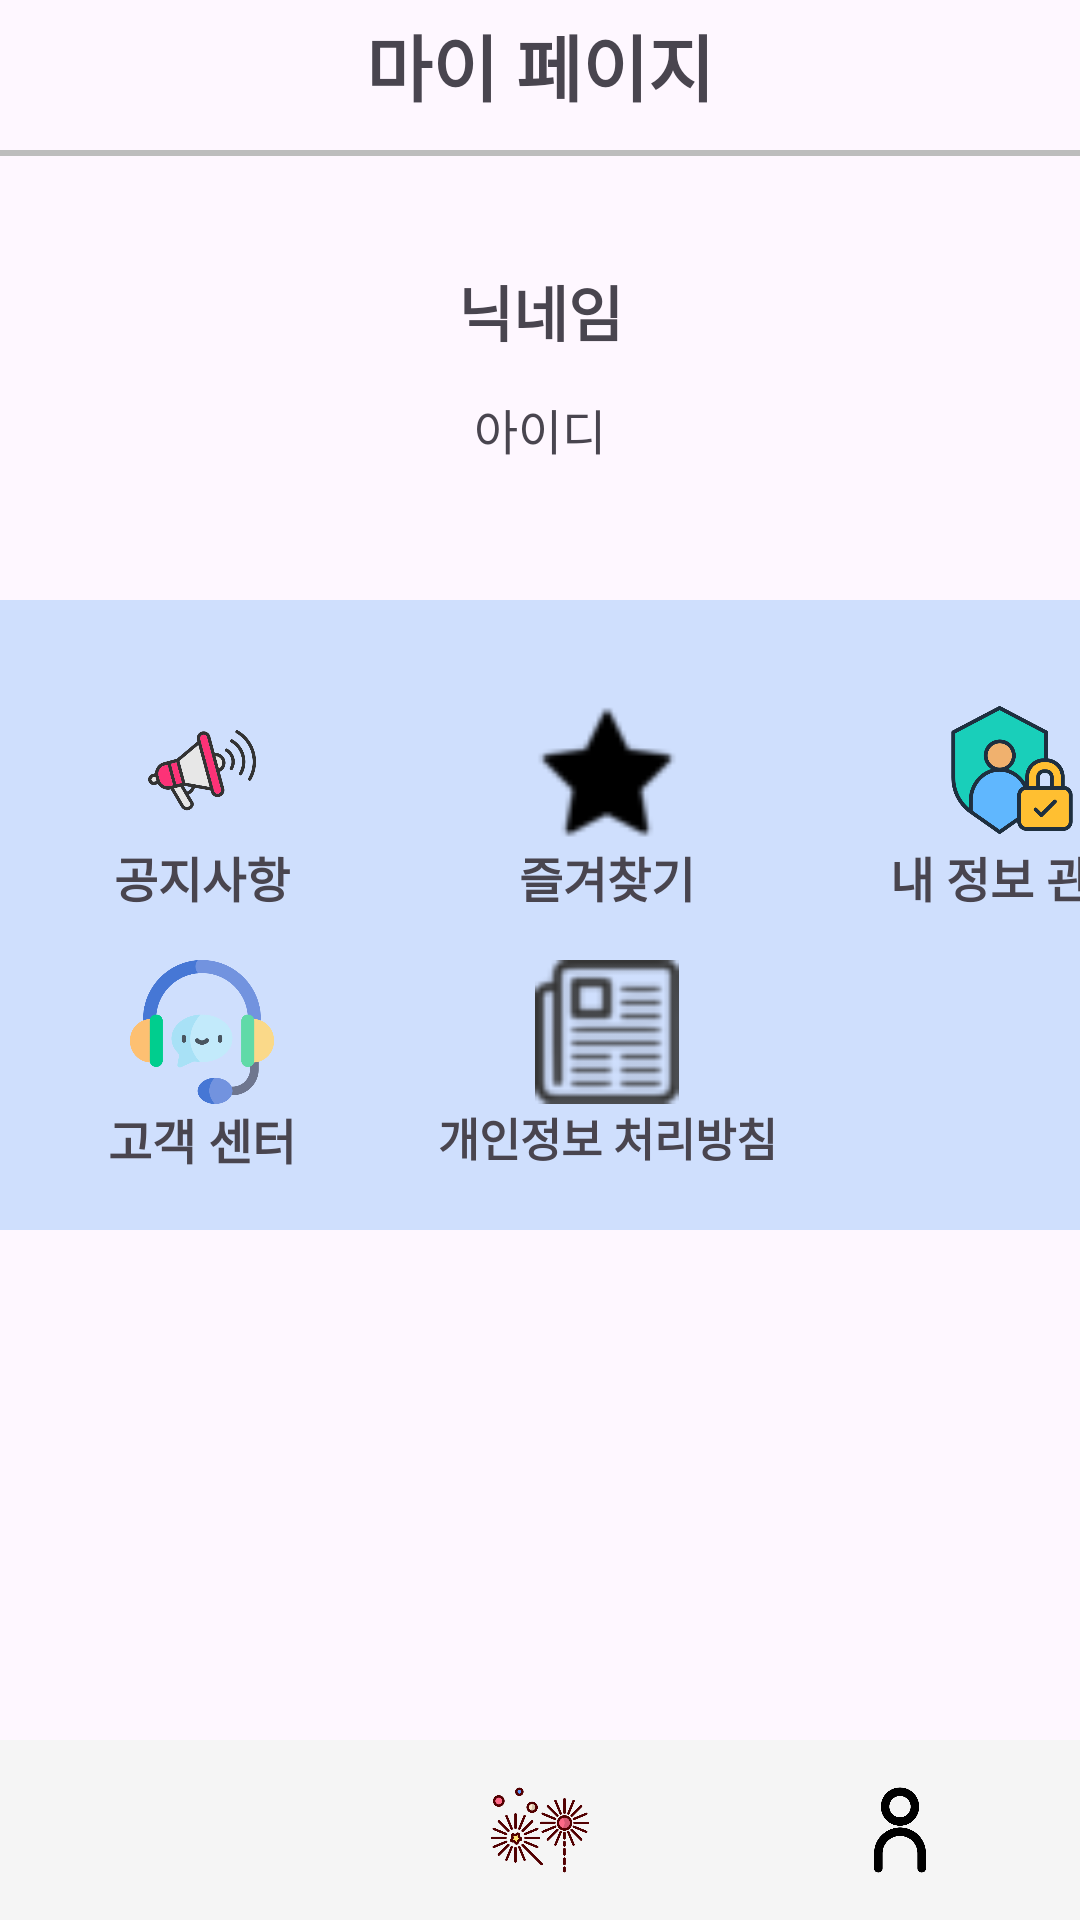

Icon bounding boxes for this 1080 × 1920 phone screenshot, format (x1, y1, x2, y2):
마이페이지 아이콘: (874, 1787, 926, 1873)
축제 아이콘: (491, 1787, 589, 1873)
